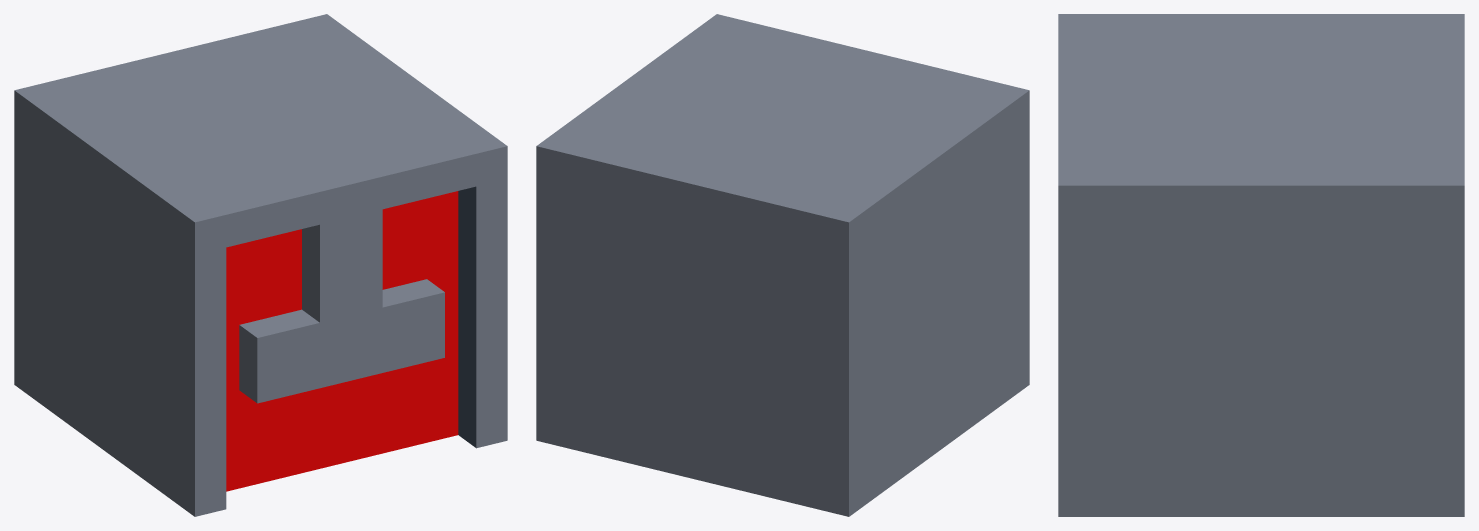
File: slime_tier_3.gltf
3 renders of one model, left to right at view 1: azimuth 30°, elevation 25°; view 2: azimuth 150°, elevation 25°; view 3: azimuth 270°, elevation 25°, orthographic. The views are drawn at different scales.
Visible parts, largest first — view 1: cube (×10); view 2: cube (×5); view 3: cube (×5).
Boxes of the visible parts, bbox=[...] form: cube (×10): bbox=[14, 14, 507, 516]; cube (×5): bbox=[536, 14, 1029, 516]; cube (×5): bbox=[1058, 14, 1464, 516].
Size of the model in its own units: 0.1563 by 0.1406 by 0.1563.
10 materials, 10 textured.
